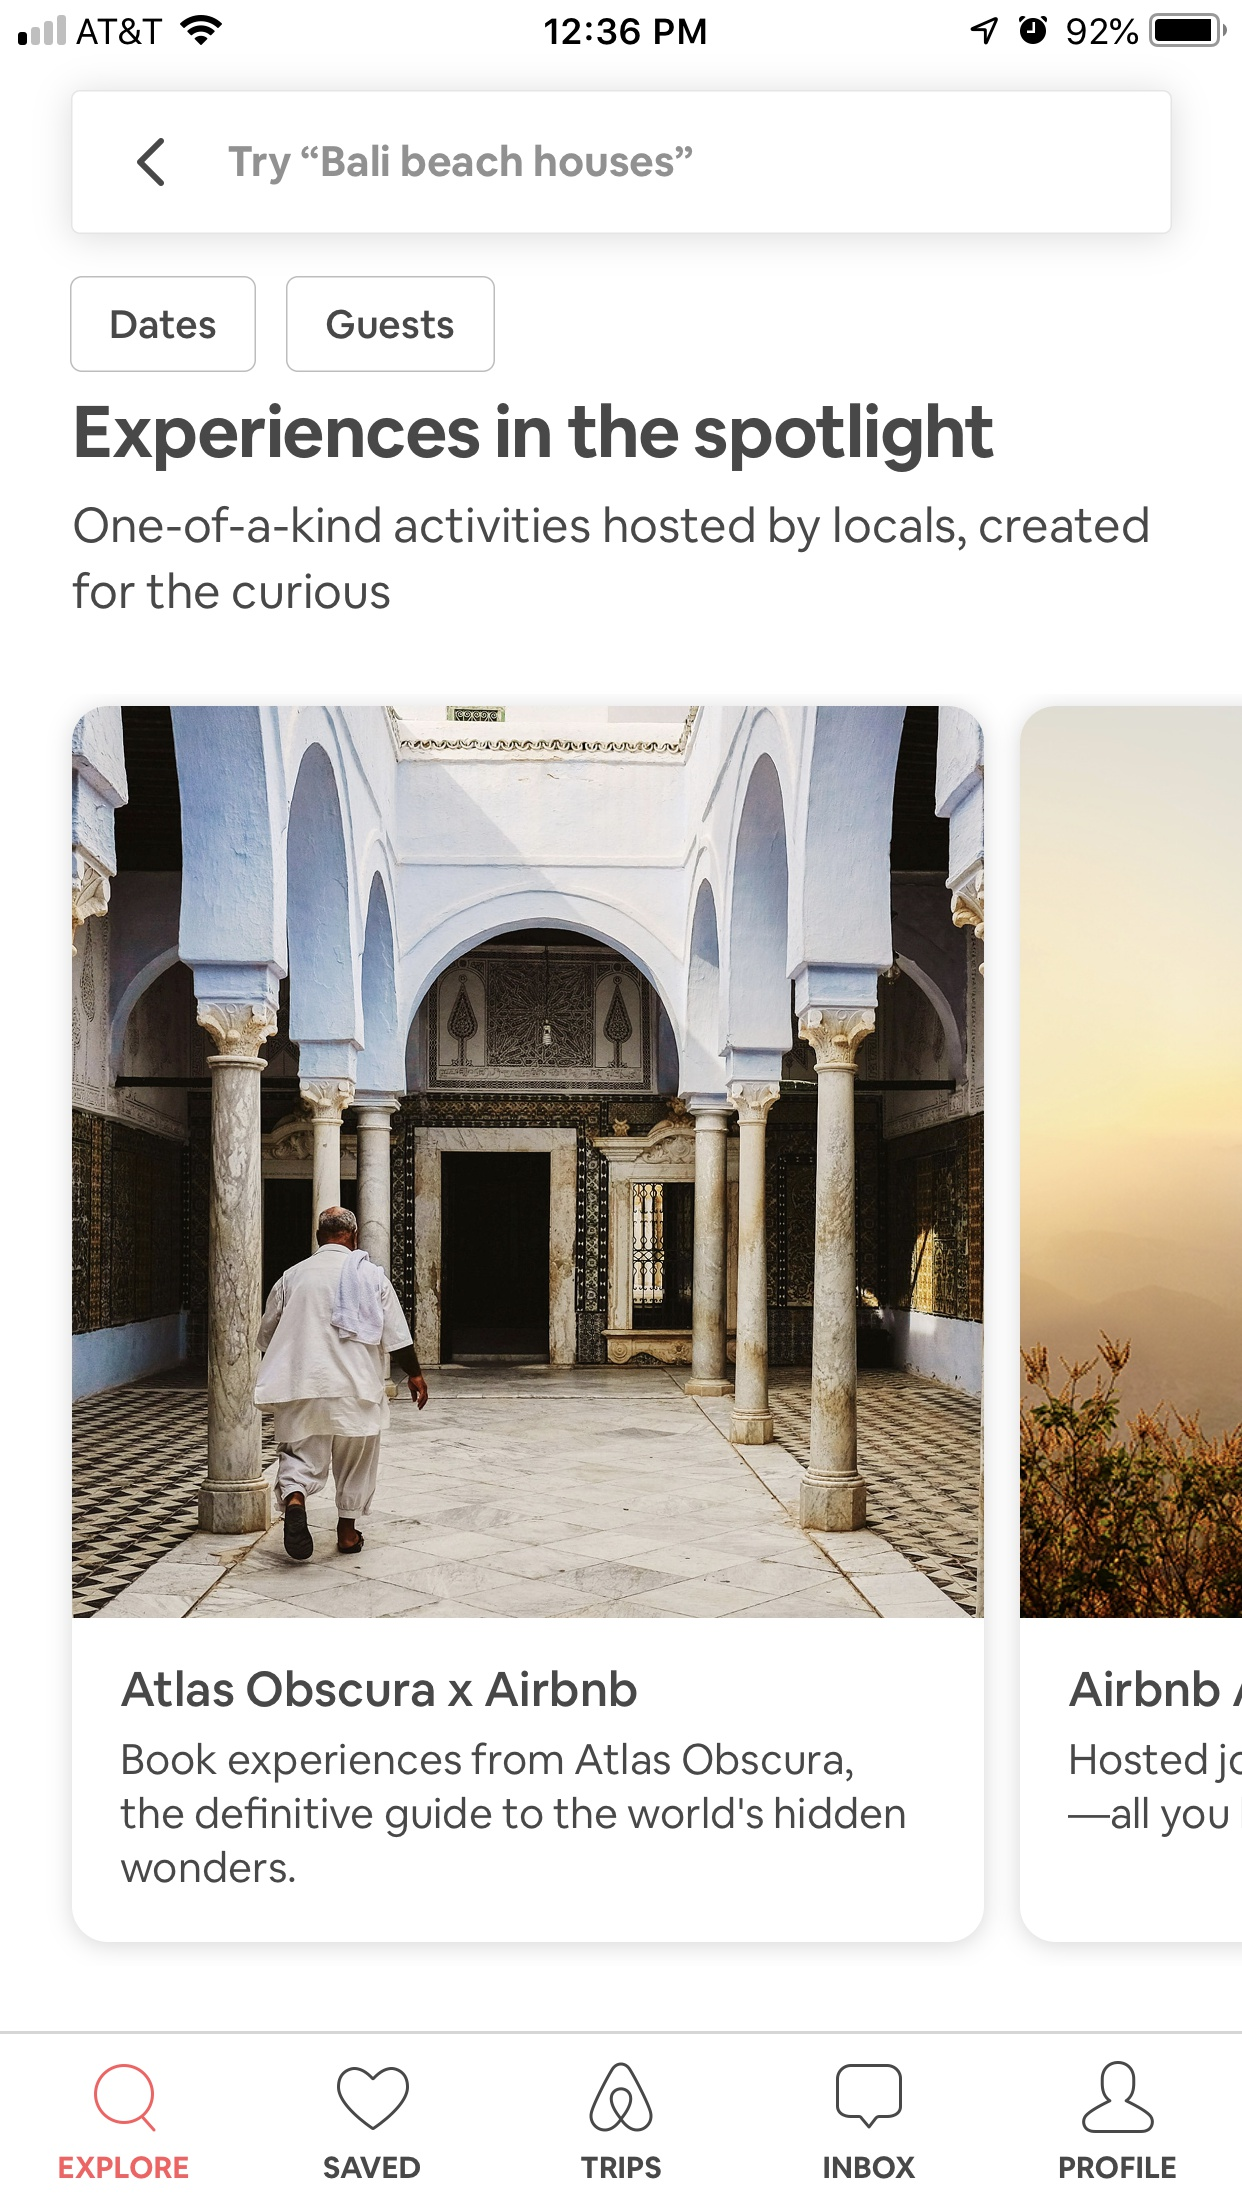EditText: (71, 91, 1172, 235)
Icon: (1081, 2059, 1156, 2134), (588, 2062, 654, 2134), (337, 2067, 409, 2131), (836, 2062, 902, 2129), (96, 2062, 158, 2132), (136, 138, 165, 188)
Image: (71, 707, 986, 1618), (1019, 707, 1242, 1620)
Text: (73, 505, 1149, 610), (120, 1742, 905, 1883), (77, 403, 995, 473), (121, 1670, 638, 1708), (227, 146, 693, 187), (1068, 1741, 1240, 1838), (1068, 1668, 1242, 1708), (59, 2155, 190, 2179), (1059, 2155, 1175, 2179), (325, 2155, 422, 2179), (823, 2155, 916, 2179), (581, 2155, 663, 2179)
TextButton: (287, 276, 496, 373), (70, 276, 256, 373)
UpperTaskBar: (2, 2, 1242, 49)
